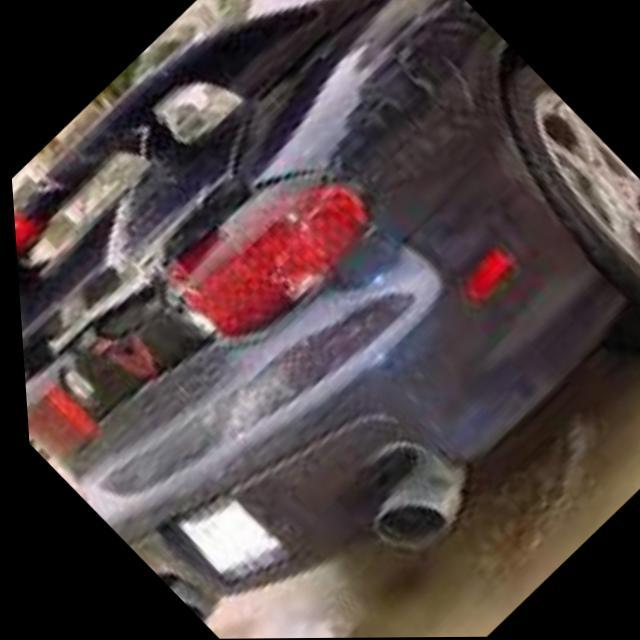rub: (80, 188, 282, 468)
